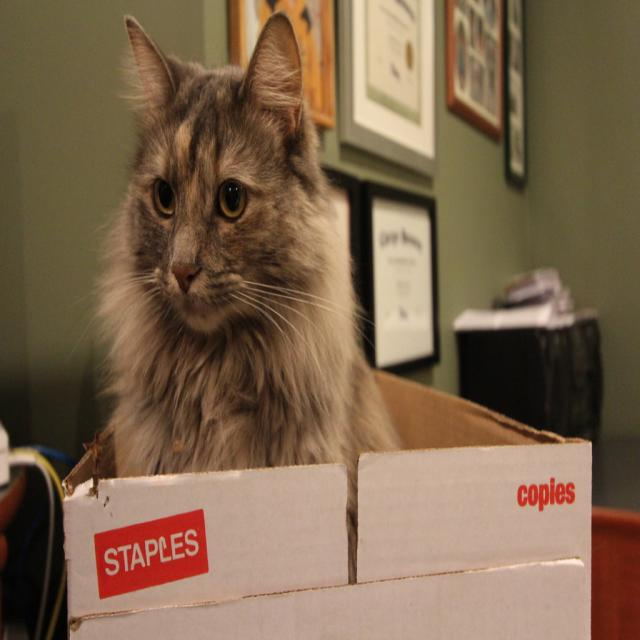Cat: (92, 4, 401, 581)
